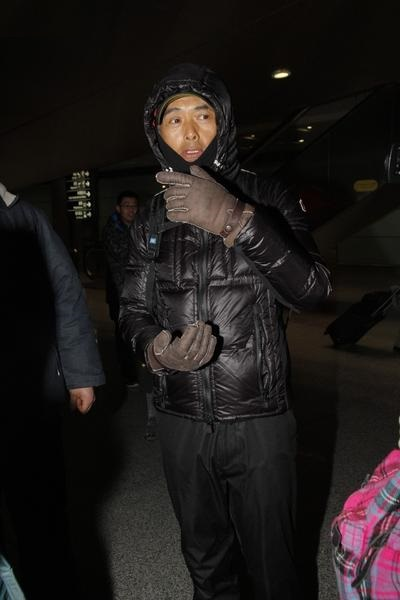face: (160, 88, 217, 171), (121, 198, 135, 221)
